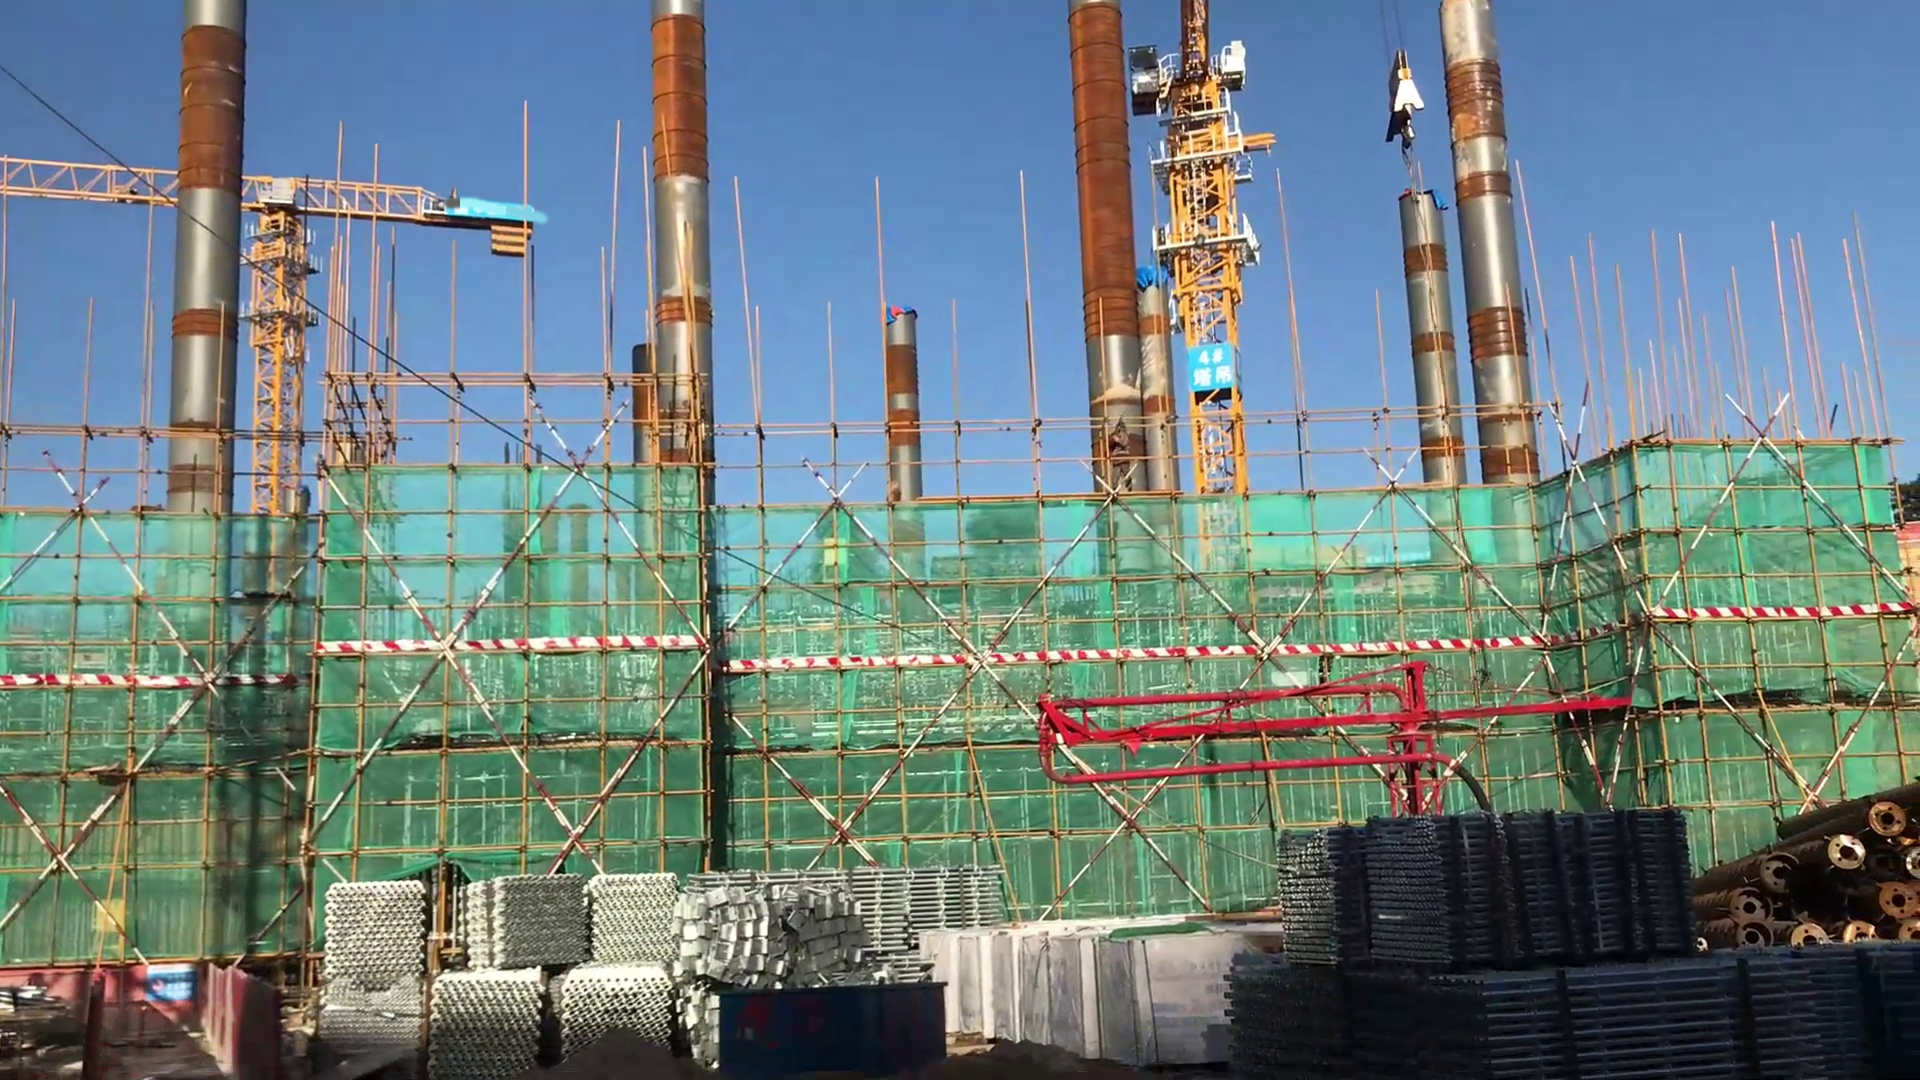fence: (61, 956, 299, 1080)
hook: (1356, 42, 1458, 178)
hopper: (717, 961, 963, 1076)
scaffold: (293, 884, 667, 1067), (1265, 824, 1684, 959), (857, 865, 996, 926)
